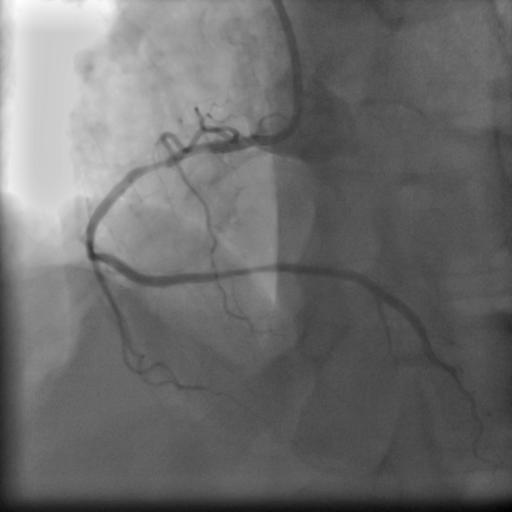Stenosis: (137, 154, 171, 173)
